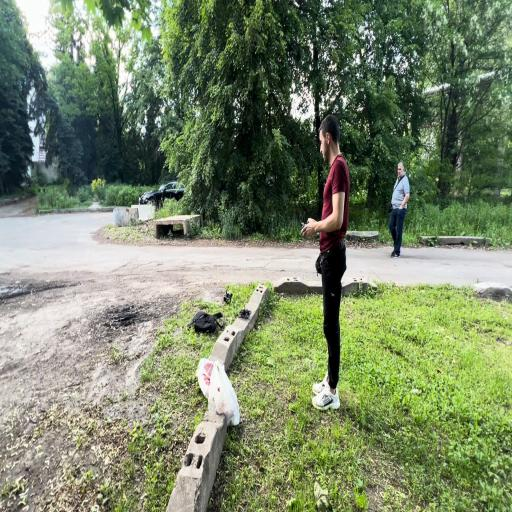drone: (238, 308, 252, 320)
